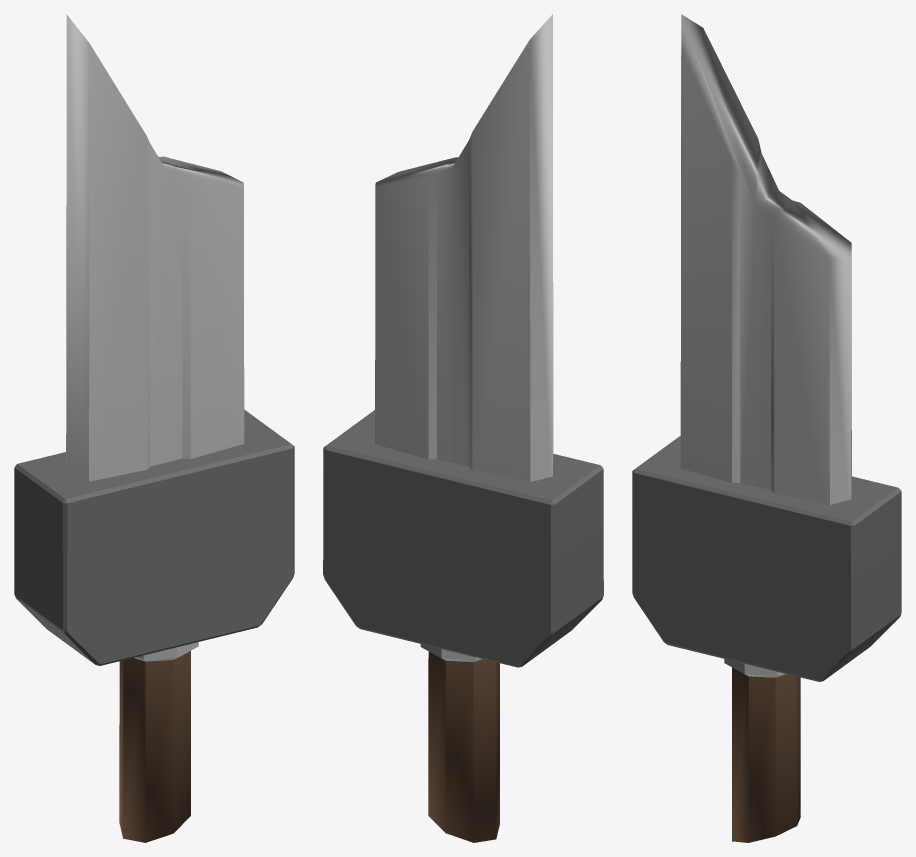
The model's file is Sword1_Broken.fbx.
3 renders of one model, left to right at view 1: azimuth 30°, elevation 25°; view 2: azimuth 150°, elevation 25°; view 3: azimuth 330°, elevation 25°, orthographic. The views are drawn at different scales.
Parts seen in each view (by area): view 1: pCube3, pCube1, pCylinder2; view 2: pCube3, pCube1, pCylinder2; view 3: pCube3, pCube1, pCylinder2.
Part boxes in pixels (x1,y1,x2,y2): pCube3: (66, 14, 244, 481); pCube1: (14, 409, 294, 665); pCylinder2: (119, 642, 198, 842); pCube3: (375, 14, 553, 481); pCube1: (323, 410, 603, 667); pCylinder2: (420, 644, 499, 842); pCube3: (680, 14, 851, 504); pCube1: (632, 436, 901, 681); pCylinder2: (724, 659, 800, 842).
Bounding box in the file's own units: 61.57 × 213 × 23.76.
